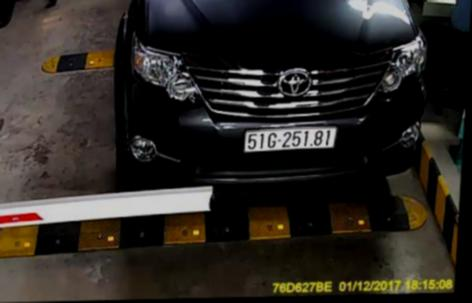License_Plate: (243, 122, 339, 156)
